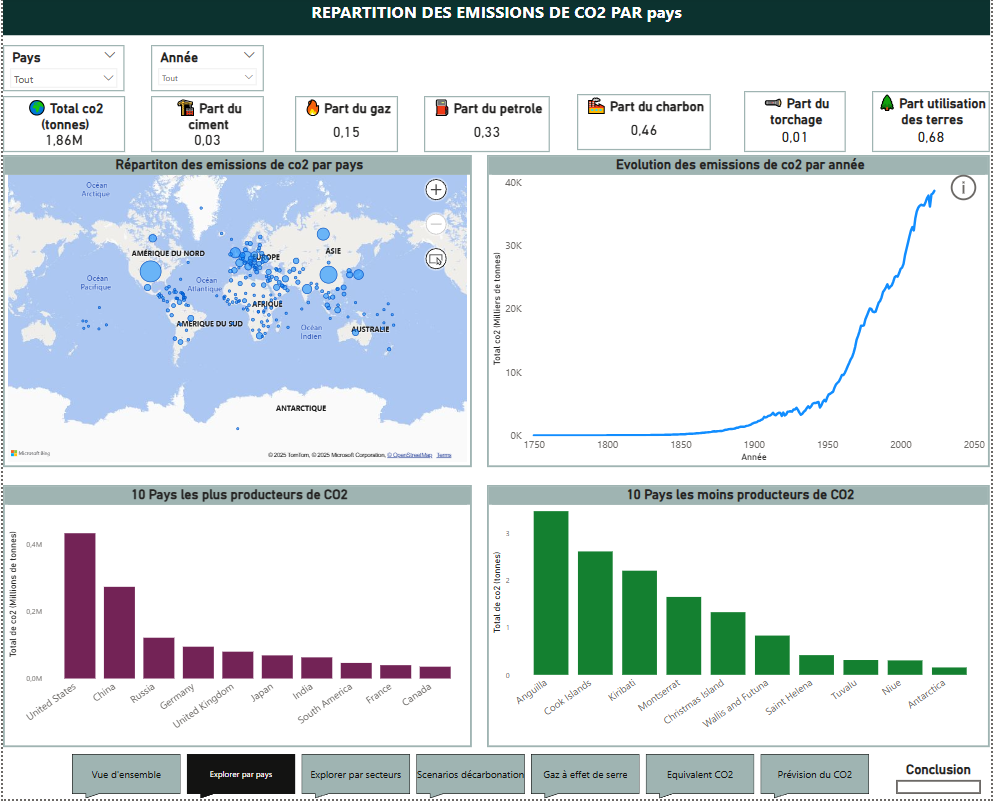

What the dashboard file says about the page in this screenshot:
{"tool":"powerbi","page":{"name":"Explorer par pays","canvas":[1600,1300],"ordinal":1},"visuals":[{"type":"map","title":"Répartiton des emissions de  co2 par pays","fields":{"Size":["Sum(Data.co2)"],"Category":["Data.Pays"]},"box":[0,256.1,760.2,505.7],"z":0},{"type":"slicer","fields":{"Values":["Data.Pays"]},"box":[0,77.3,197,74.8],"z":1000},{"type":"slicer","fields":{"Values":["Data.Année"]},"box":[239.9,77.8,183.2,74.6],"z":2000},{"type":"card","title":"🌍 Total co2 (tonnes)","fields":{"Values":["DAX.Total emissions co2"]},"box":[0,160.5,197.8,90.8],"z":3000},{"type":"lineChart","title":"Evolution des emissions de co2 par année","fields":{"Y":["Sum(Data.co2)"],"Category":["Data.Année"]},"box":[784.5,256.1,815.3,505.7],"z":3000,"group":"g1"},{"type":"card","title":"🏗️ Part du ciment","fields":{"Values":["DAX.Part_du_ciment"]},"box":[239.9,160.5,183.2,90.8],"z":4000},{"type":"card","title":"🔥 Part du gaz","fields":{"Values":["DAX.Part_du_gaz"]},"box":[473.3,160.5,167,90.8],"z":5000},{"type":"card","title":"⛽ Part du petrole","fields":{"Values":["DAX.Part_du_petrole"]},"box":[682.4,160.5,204.2,90.8],"z":6000},{"type":"card","title":"🔦 Part du torchage","fields":{"Values":["DAX.Part_du_torchage"]},"box":[1201.1,152.4,165.3,98.9],"z":7000},{"type":"card","title":"🌲 Part utilisation des terres","fields":{"Values":["DAX.Part_utilisation_terre"]},"box":[1408.6,152.4,191.3,98.9],"z":8000},{"type":"card","title":"🏭 Part du charbon","fields":{"Values":["DAX.Part_du_charbon"]},"box":[930.4,157.2,217.2,90.8],"z":9000},{"type":"textbox","box":[0,0,1599.9,61.6],"z":10000},{"type":"actionButton","box":[1530.4,282,54.6,53.5],"z":11000,"group":"g1"},{"type":"pageNavigator","box":[111.8,1227.1,1296.8,72.9],"z":11000},{"type":"clusteredColumnChart","title":"10 Pays les plus producteurs de CO2","fields":{"Y":["Sum(Data.co2)"],"Category":["Data.Pays"]},"box":[0,791,760.2,424.7],"z":12000},{"type":"clusteredColumnChart","title":"10 Pays les moins producteurs de CO2","fields":{"Y":["Sum(Data.co2)"],"Category":["Data.Pays"]},"box":[784.5,791,815.3,424.7],"z":13000},{"type":"group","id":"g1","title":"Groupe 1","box":[784.5,256.1,815.3,505.7],"z":14000},{"type":"actionButton","title":"Conclusion","box":[1447.5,1240,137.8,51.9],"z":15000}]}

Visuals, with their boxes in screenshot pixels (x1, y1, x2, y2), scaled from the page's 1600x1300 canvas onto the 993x801 screenshot:
"Répartiton des emissions de  co2 par pays" map: {"x1": 0, "y1": 158, "x2": 472, "y2": 469}
slicer - Data.Pays: {"x1": 0, "y1": 48, "x2": 122, "y2": 94}
slicer - Data.Année: {"x1": 149, "y1": 48, "x2": 263, "y2": 94}
"🌍 Total co2 (tonnes)" card: {"x1": 0, "y1": 99, "x2": 123, "y2": 155}
"Evolution des emissions de co2 par année" lineChart: {"x1": 487, "y1": 158, "x2": 992, "y2": 469}
"🏗️ Part du ciment" card: {"x1": 149, "y1": 99, "x2": 263, "y2": 155}
"🔥 Part du gaz" card: {"x1": 294, "y1": 99, "x2": 397, "y2": 155}
"⛽ Part du petrole" card: {"x1": 424, "y1": 99, "x2": 550, "y2": 155}
"🔦 Part du torchage" card: {"x1": 745, "y1": 94, "x2": 848, "y2": 155}
"🌲 Part utilisation des terres" card: {"x1": 874, "y1": 94, "x2": 992, "y2": 155}
"🏭 Part du charbon" card: {"x1": 577, "y1": 97, "x2": 712, "y2": 153}
textbox: {"x1": 0, "y1": 0, "x2": 992, "y2": 38}
actionButton: {"x1": 950, "y1": 174, "x2": 984, "y2": 207}
pageNavigator: {"x1": 69, "y1": 756, "x2": 874, "y2": 800}
"10 Pays les plus producteurs de CO2" clusteredColumnChart: {"x1": 0, "y1": 487, "x2": 472, "y2": 749}
"10 Pays les moins producteurs de CO2" clusteredColumnChart: {"x1": 487, "y1": 487, "x2": 992, "y2": 749}
"Groupe 1" group: {"x1": 487, "y1": 158, "x2": 992, "y2": 469}
"Conclusion" actionButton: {"x1": 898, "y1": 764, "x2": 984, "y2": 796}
